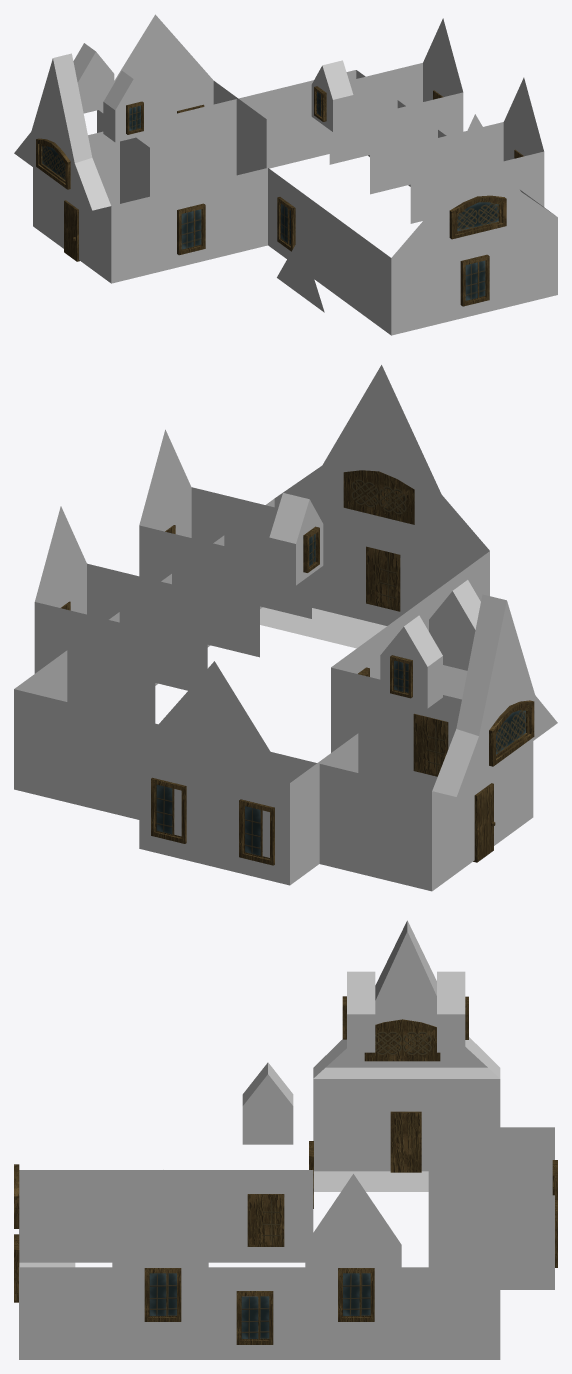
Rendered from FIXEDPOLASTER.fbx.
3 renders of one model, top to bottom at view 1: azimuth 30°, elevation 25°; view 2: azimuth 150°, elevation 25°; view 3: azimuth 270°, elevation 25°, orthographic. The views are drawn at different scales.
Visible parts, largest first — view 1: Object1433; view 2: Object1433; view 3: Object1433.
Boxes of the visible parts, left/top/right/bottom form: Object1433: left=14, top=14, right=557, bottom=335; Object1433: left=14, top=365, right=557, bottom=891; Object1433: left=14, top=920, right=557, bottom=1359.
Size of the model in its own units: 114 by 59.2 by 121.
